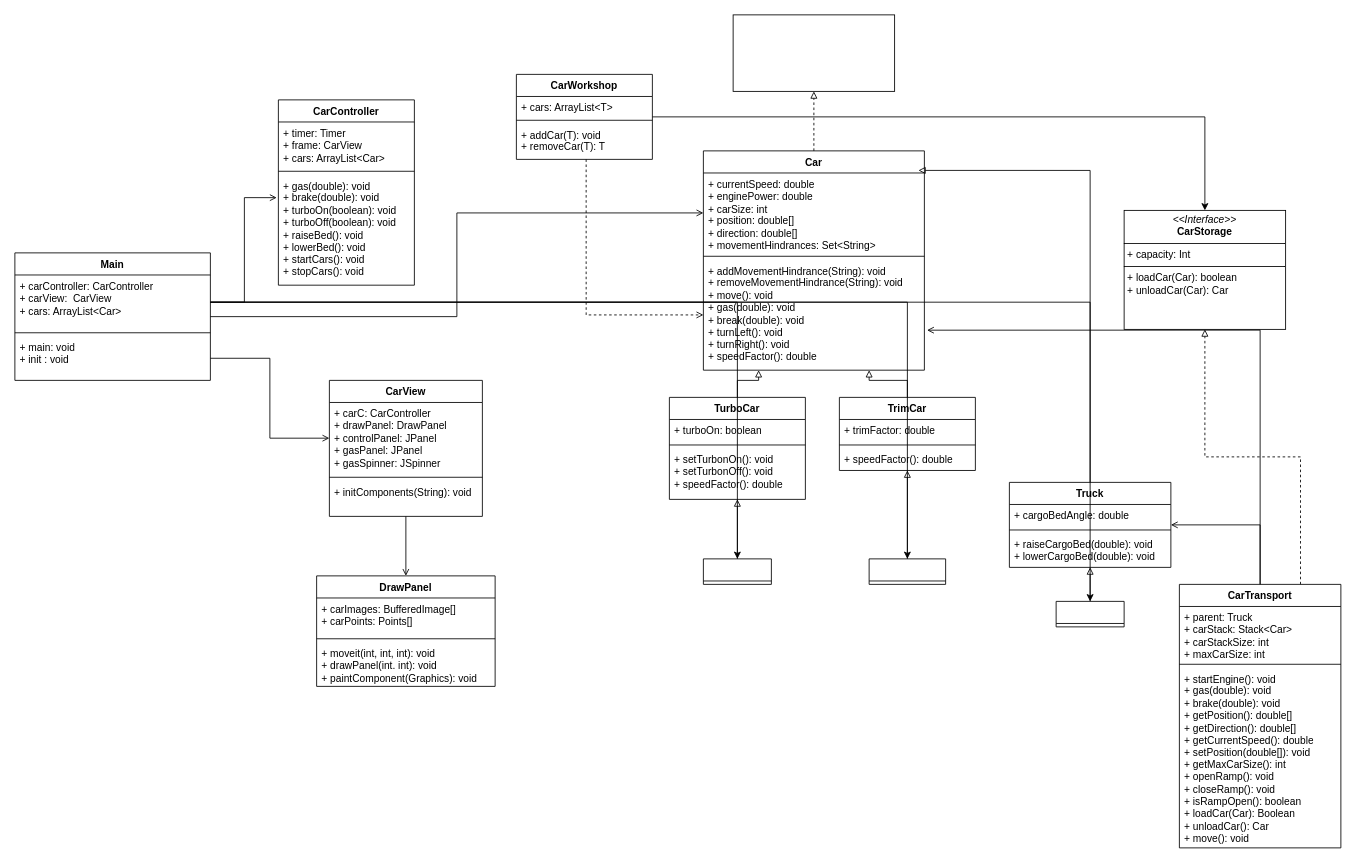
The diagram is 1356 pixels wide and 865 high, and some of its shapes have lost their labels. The shapes that lost their labels are listed below. From the top down, each one's centre as x and y in pixels, then its label:
At (813,52): "<<Interface>> Movable + move(): void + turnLeft(): void + turnRight(): void".
At (737,571): "Saab95".
At (907,571): "Volvo240".
At (1089,614): "Scania".
